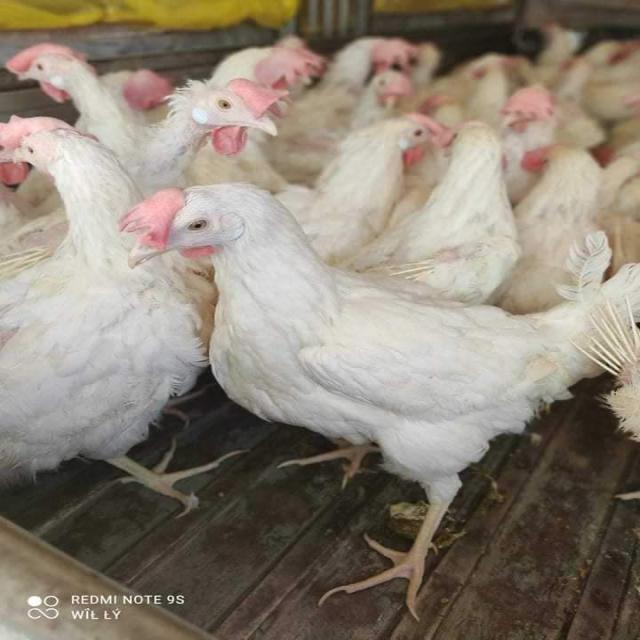Healthy: (119, 170, 638, 610)
